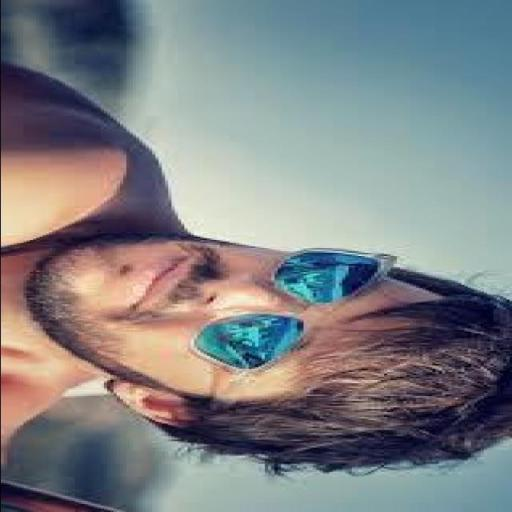glasses: (180, 242, 419, 380)
